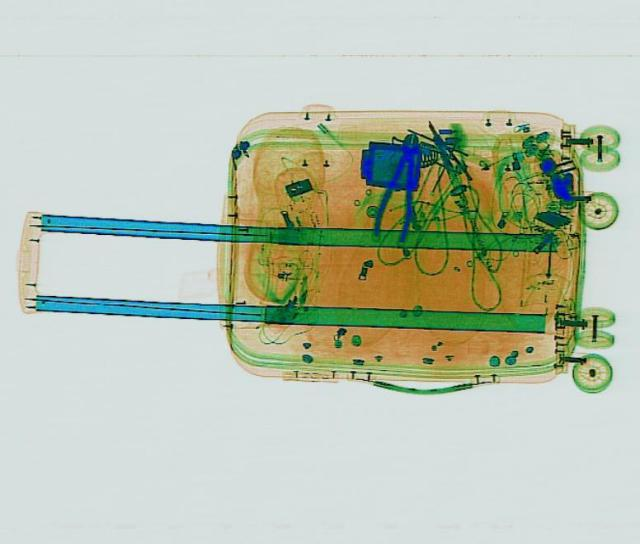Pliers: (368, 130, 432, 241)
